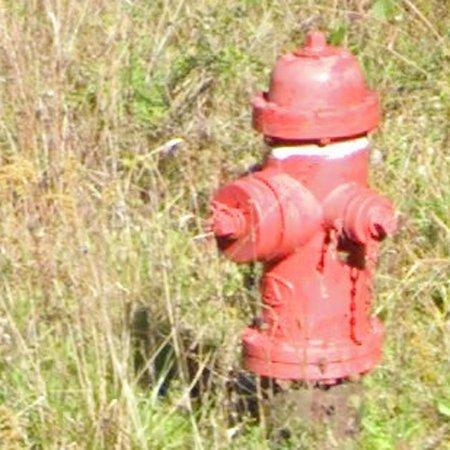a fire hydrant: (210, 31, 399, 384)
